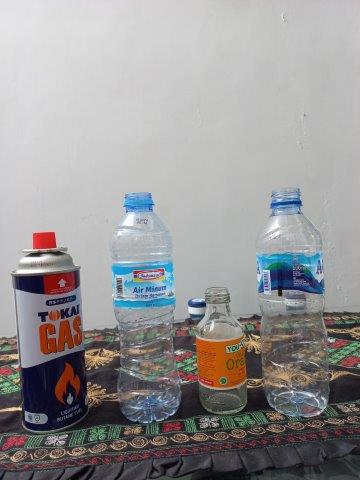botolkaca: (195, 287, 247, 414)
botolplastik: (255, 187, 330, 415), (111, 193, 181, 424)
kaleng: (11, 233, 87, 431)
